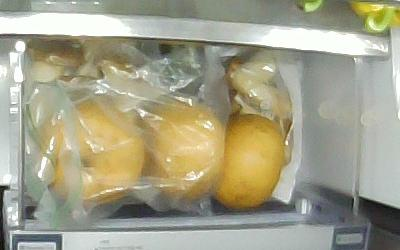pear: (208, 112, 284, 210)
pear_vinyl: (38, 95, 146, 205), (143, 94, 227, 200)
